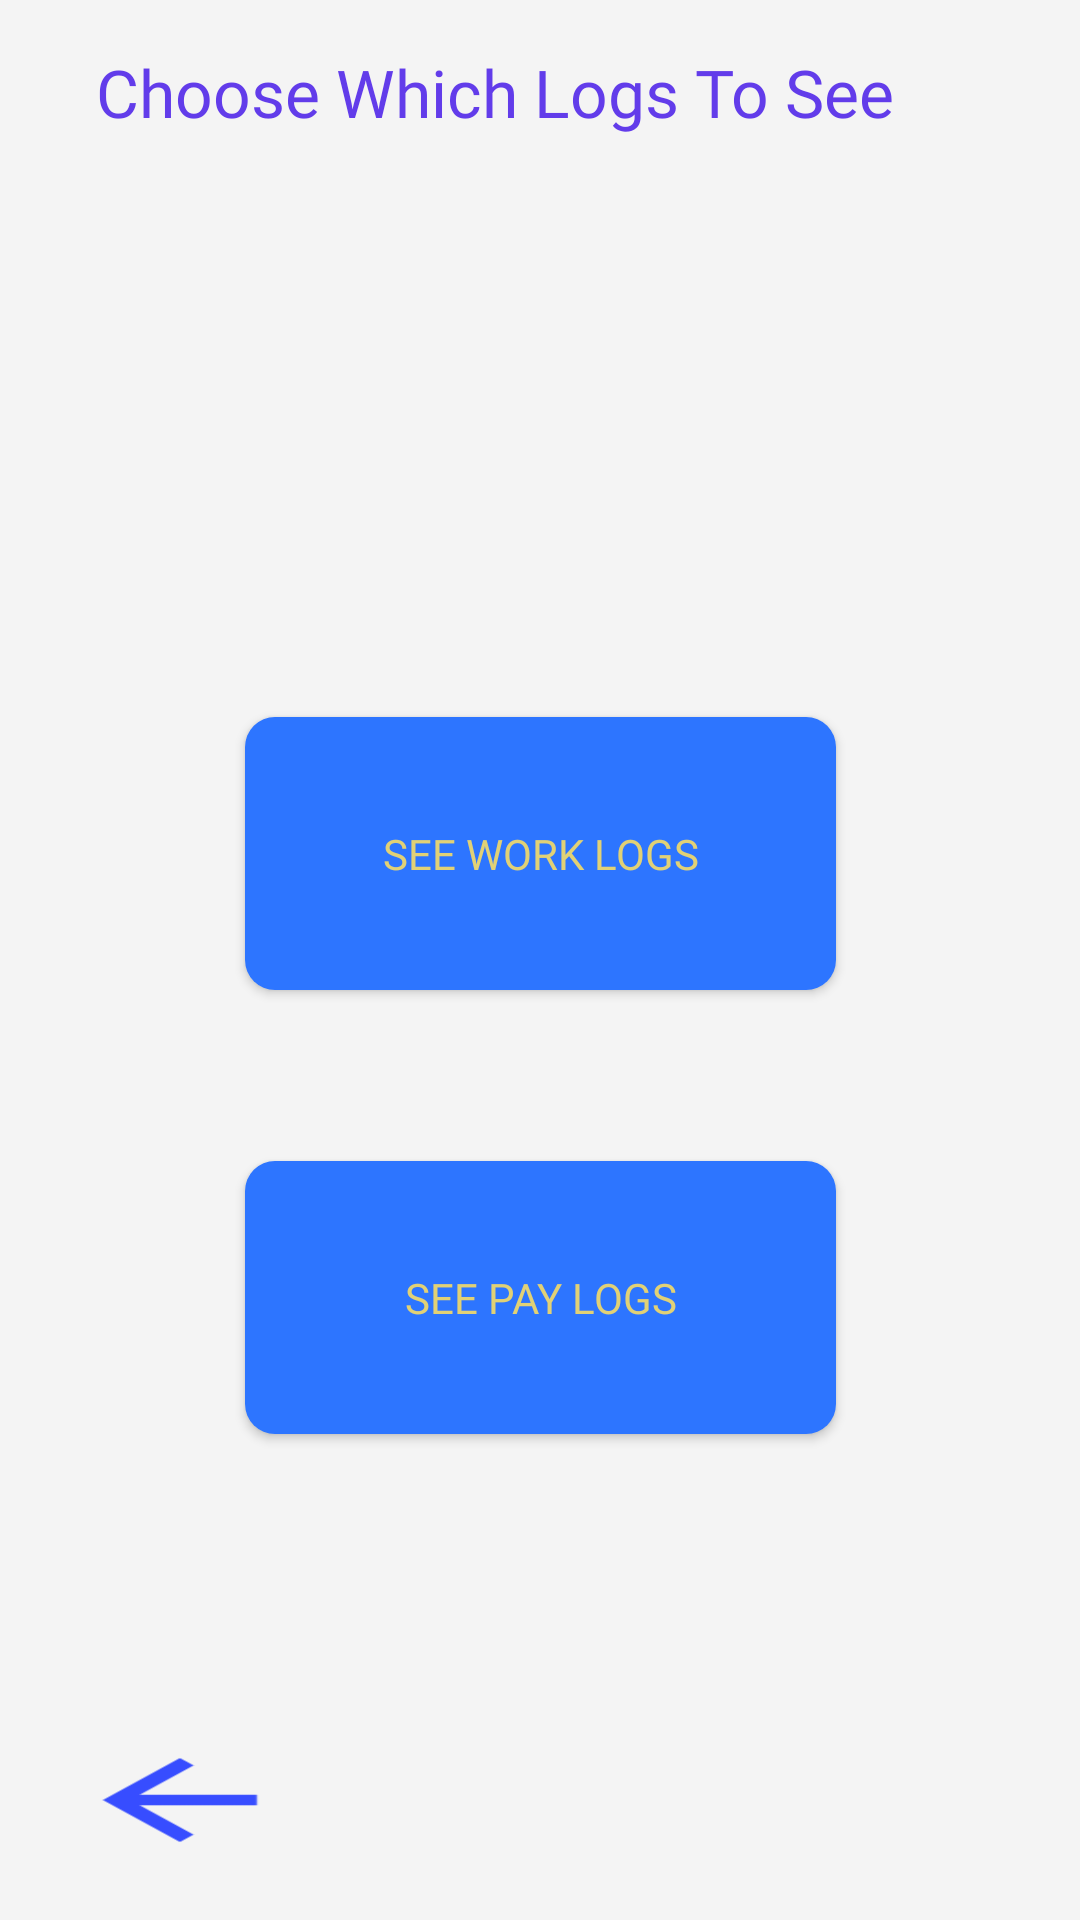

Where icons sit on this 1080×1920 app screen, as (x1, y1, x2, y2):
back: (102, 1758, 258, 1842)
